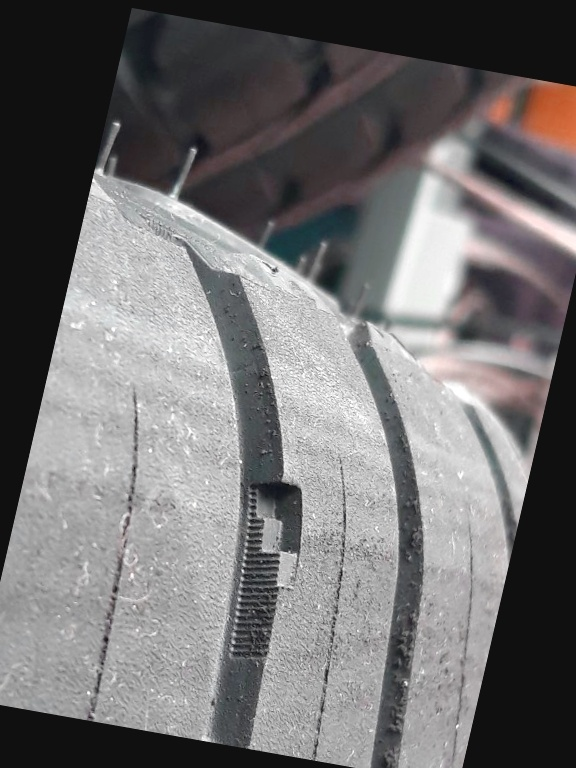temoin:50: (220, 466, 326, 602)
